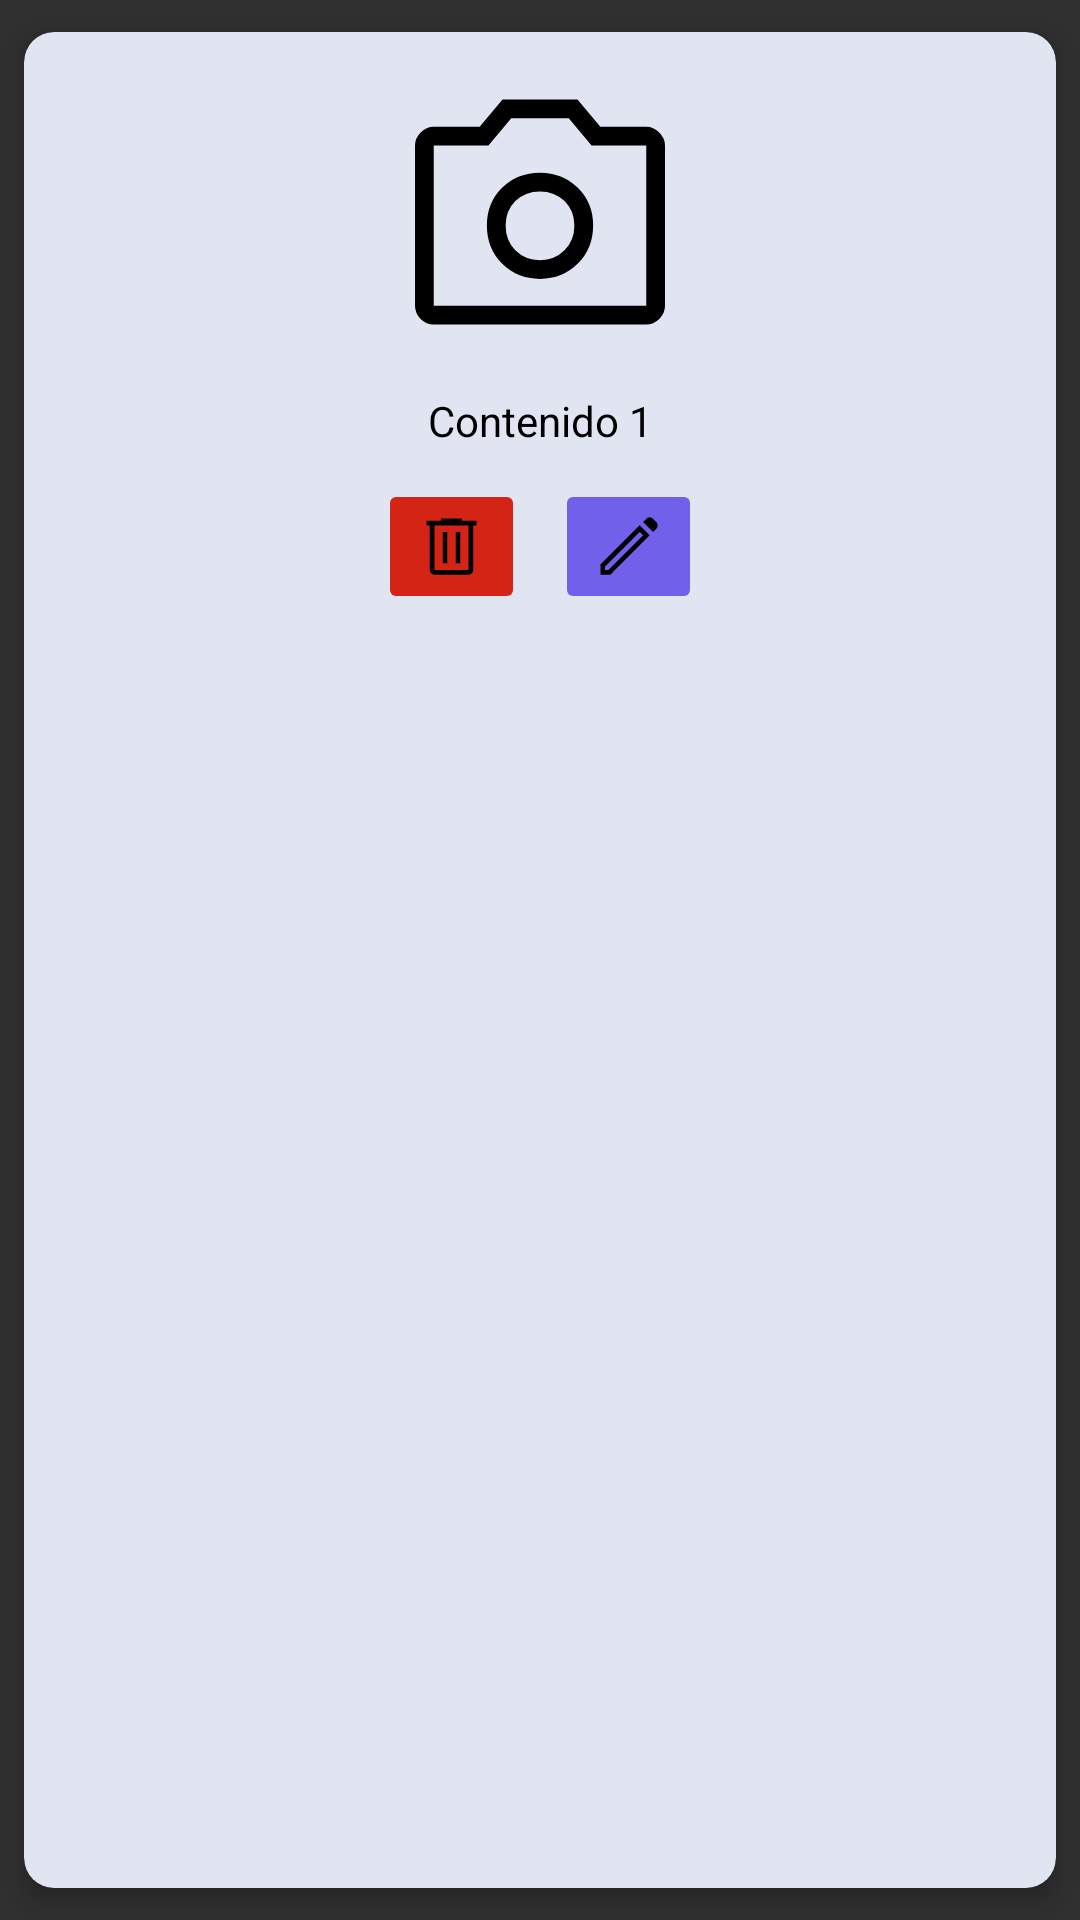

Named icons in this screenshot (1080px x 1920px) and their centers, (x=x, y=y):
delete: (x=451, y=546)
edit: (x=628, y=546)
photo camera: (x=540, y=212)
